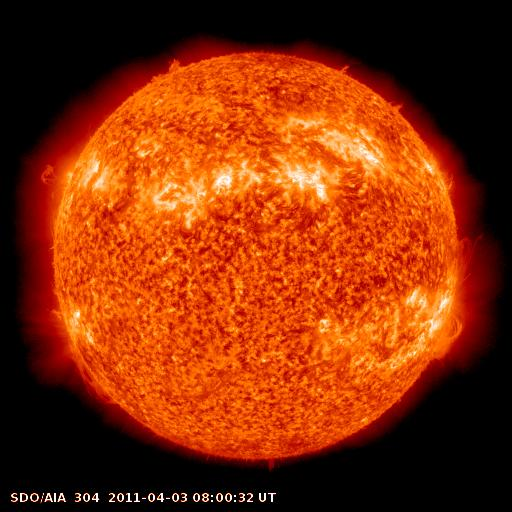prominence: (69, 348, 128, 413), (450, 229, 490, 296), (139, 51, 188, 90), (31, 159, 73, 200), (431, 162, 466, 200)
